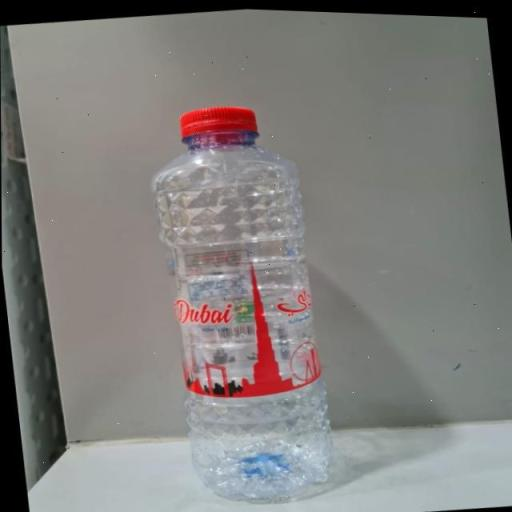plastic: (142, 95, 344, 512)
